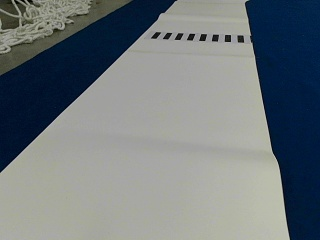crosswalk: (152, 32, 245, 42)
